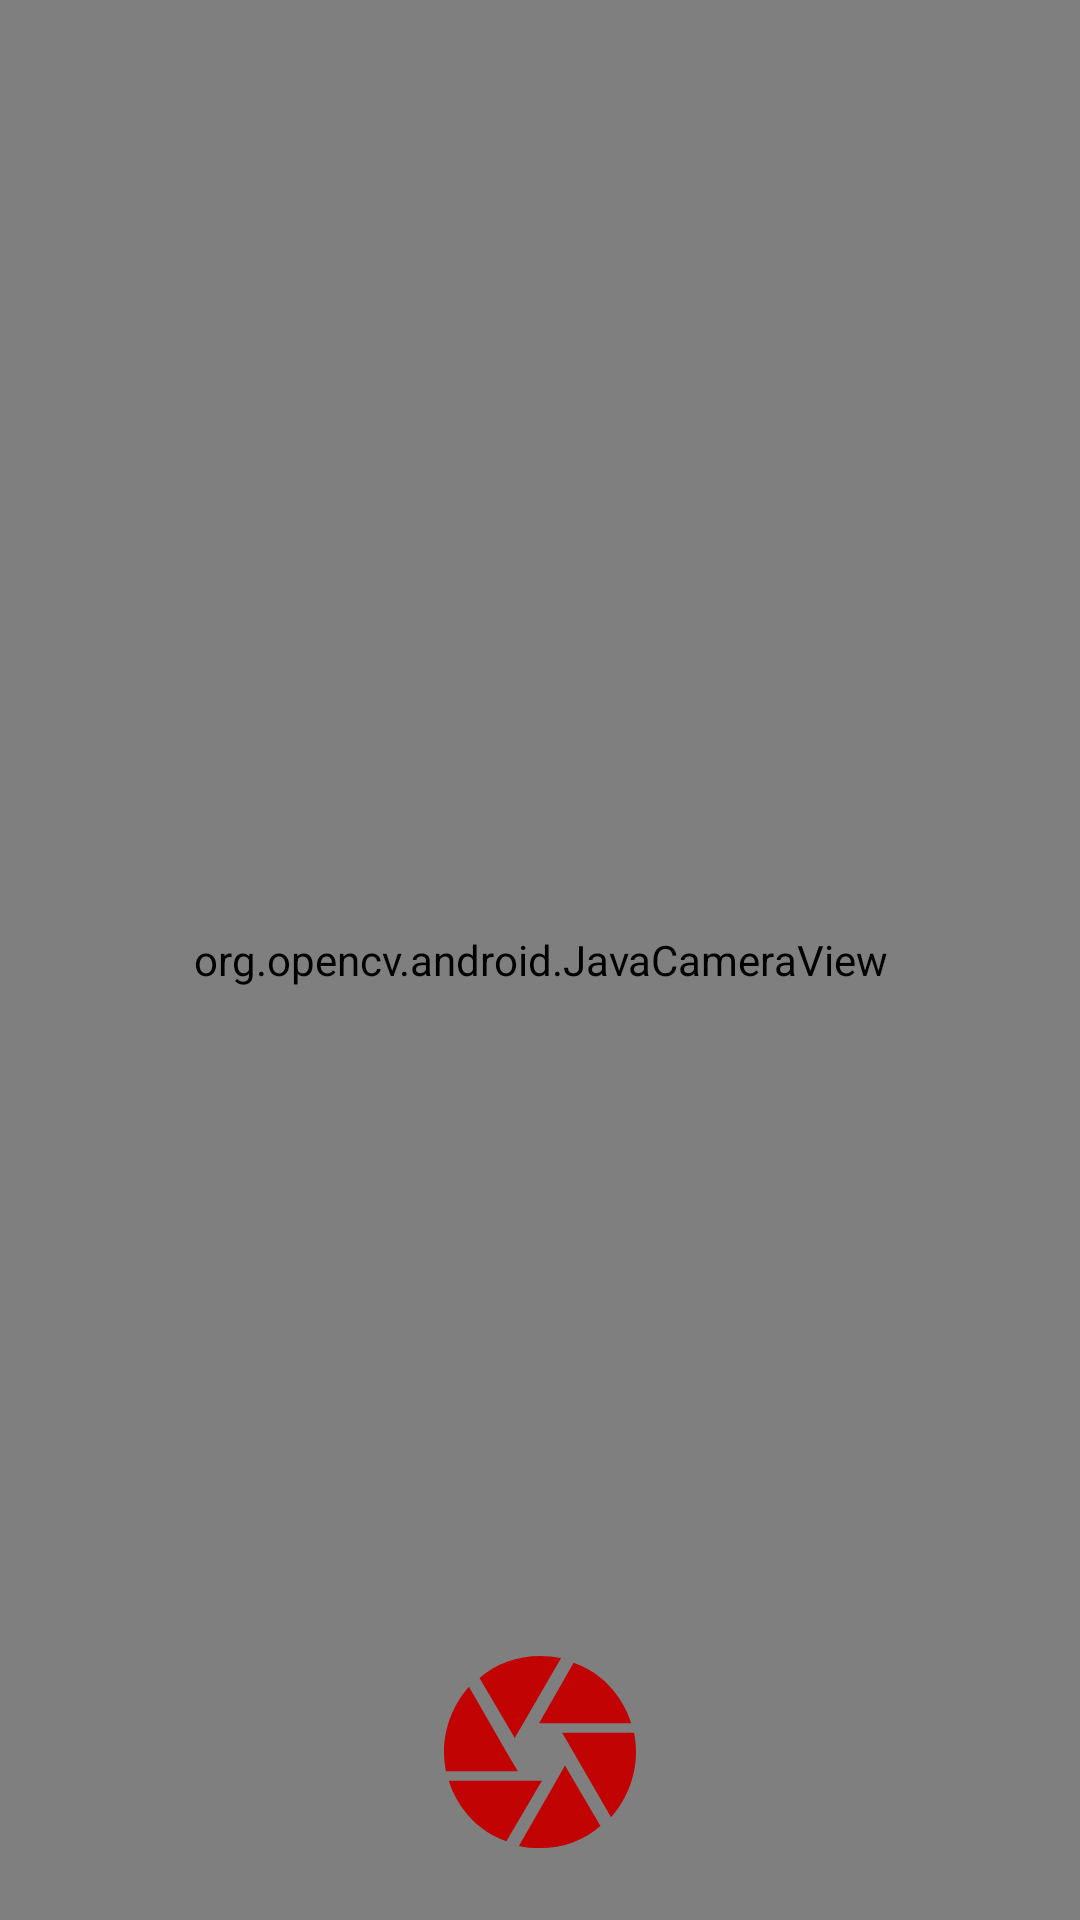

Named icons in this screenshot (1080w x 1920h) and their centers, [x,y]:
capture camera: [540,1752]
